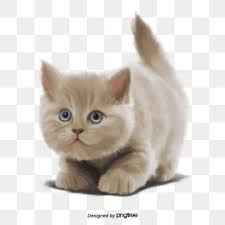Gato: (37, 22, 194, 197)
